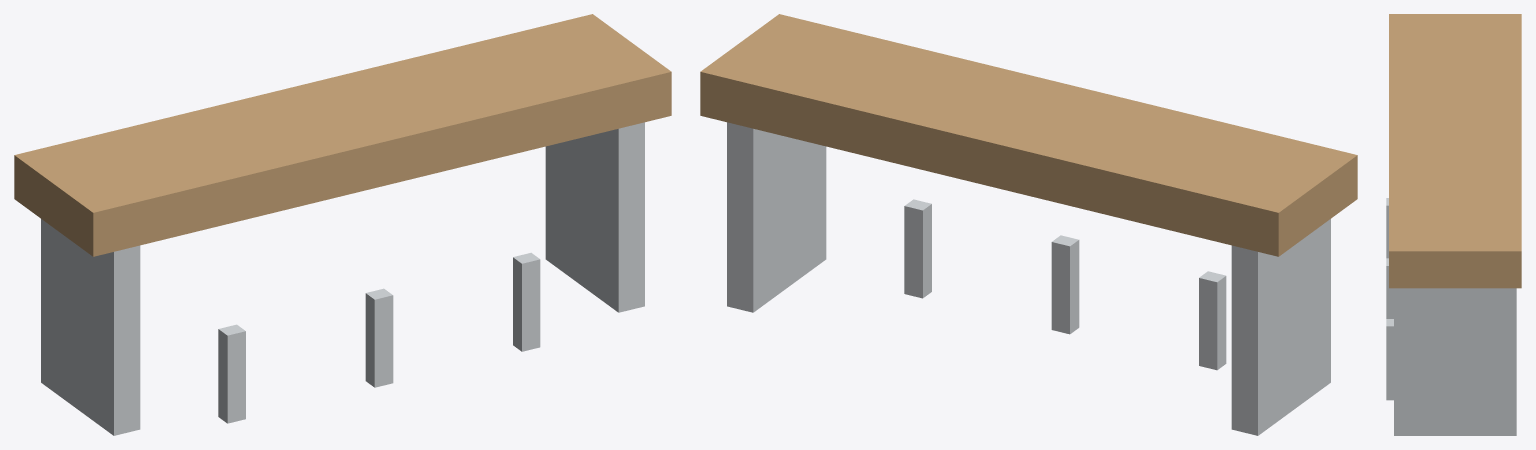
Rendered from wall-shelf-hooks-premium.gltf.
3 renders of one model, left to right at view 1: azimuth 30°, elevation 25°; view 2: azimuth 150°, elevation 25°; view 3: azimuth 270°, elevation 25°, orthographic. The views are drawn at different scales.
Visible parts, largest first — view 1: wall-shelf-hooks-premium; view 2: wall-shelf-hooks-premium; view 3: wall-shelf-hooks-premium.
Boxes of the visible parts, x1,y1,x2,y2 form: wall-shelf-hooks-premium: [14, 14, 671, 435]; wall-shelf-hooks-premium: [700, 14, 1357, 435]; wall-shelf-hooks-premium: [1386, 14, 1521, 435].
Size of the model in its own units: 1.1 by 0.44 by 0.265.
